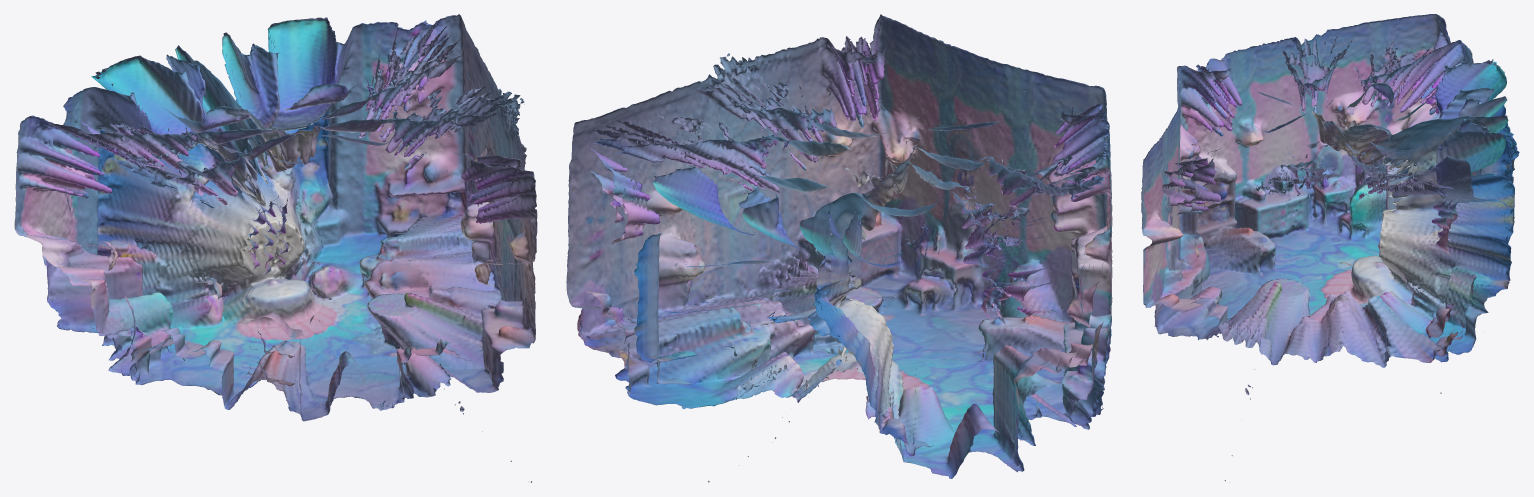
Rendered from ac-dreamy-mermaid-sanctuary_collider.glb.
3 views of the same model, side by side, from view 1: azimuth 30°, elevation 25°; view 2: azimuth 150°, elevation 25°; view 3: azimuth 270°, elevation 25° (orthographic). The views are drawn at different scales.
Parts seen in each view (by area): view 1: world; view 2: world; view 3: world.
Boxes of the visible parts, x1,y1,x2,y2 form: world: (14,14,537,482); world: (566,14,1112,482); world: (1141,14,1519,481).
Bounding box in the file's own units: 8.8 × 6.8 × 7.52.
